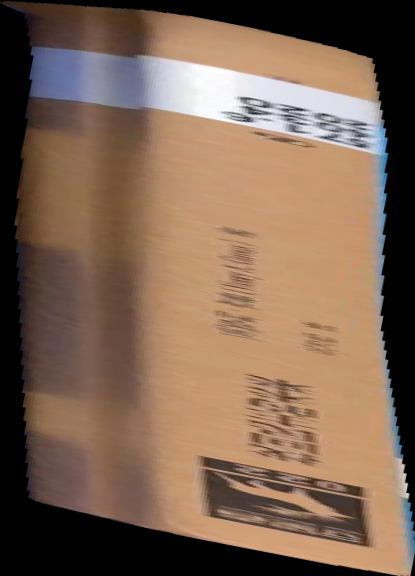reverse: (1, 1, 415, 576)
